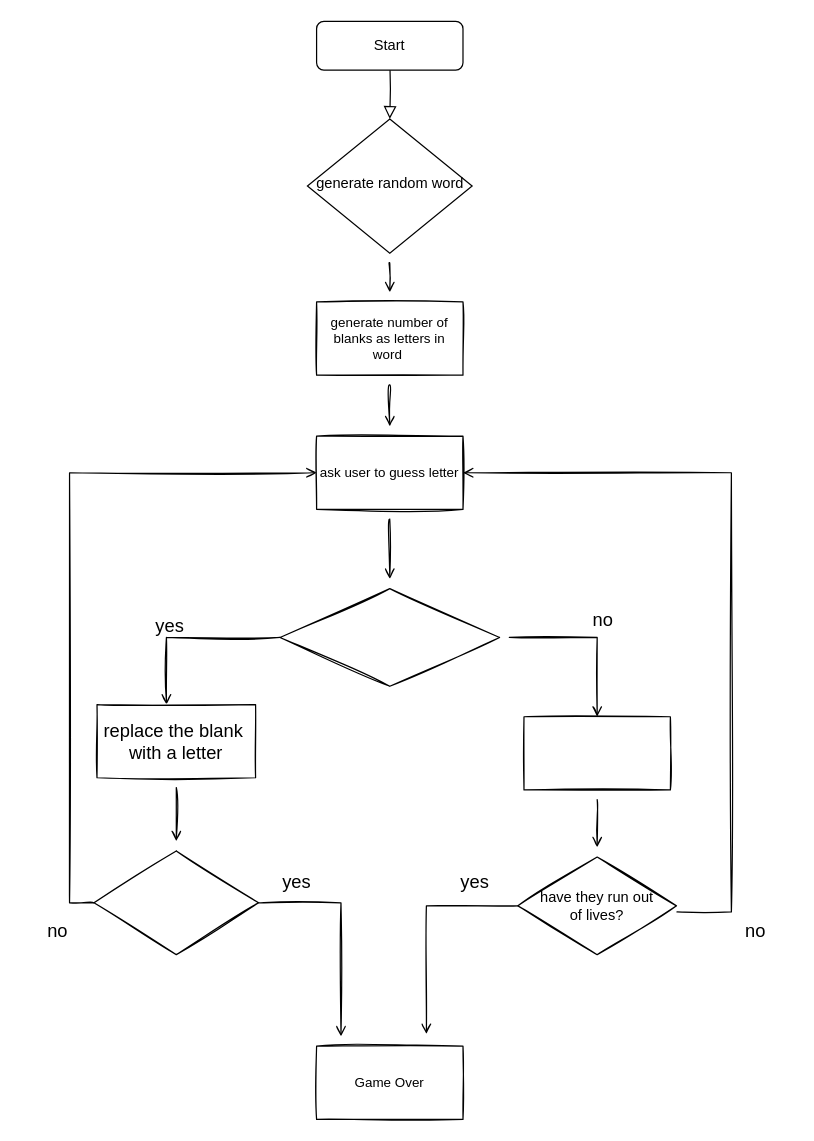
The diagram is 814 pixels wide and 1141 high, and some of its shapes have lost their labels. The box of each missing label's shape, as (x1, y1, x2, y2) in pixels:
are the blanks filled?: (93, 850, 259, 955)
is the guessed letter in the word?: (279, 587, 500, 686)
lose a life: (523, 716, 670, 790)
